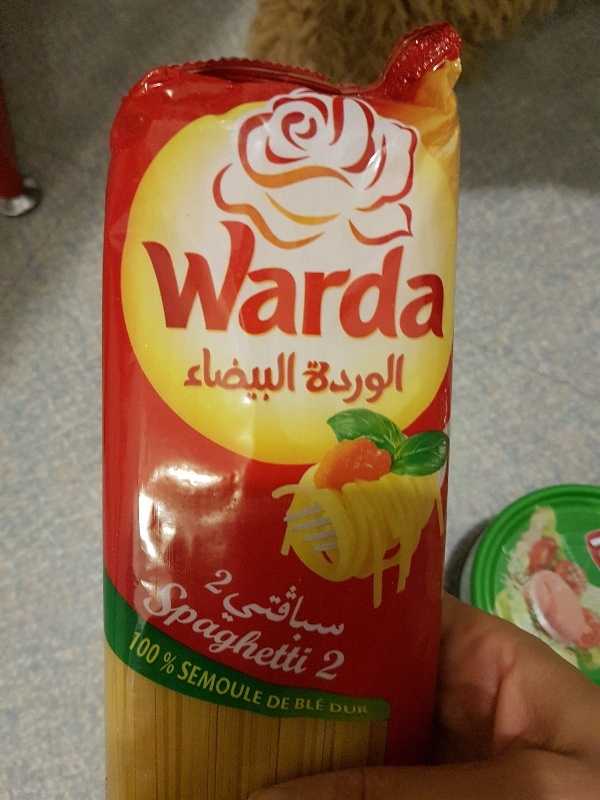text: (145, 207, 160, 345), (161, 207, 176, 345), (177, 207, 192, 345), (193, 207, 208, 345), (209, 207, 224, 345), (225, 207, 240, 345), (241, 207, 256, 345), (257, 207, 272, 345), (273, 207, 288, 345), (289, 207, 304, 345), (305, 207, 320, 345), (321, 207, 336, 345), (337, 207, 352, 345), (353, 207, 368, 345), (369, 207, 384, 345), (385, 207, 400, 345), (401, 207, 416, 345), (417, 207, 432, 345), (433, 207, 447, 345), (161, 569, 176, 689), (177, 569, 192, 689), (193, 569, 208, 689), (209, 569, 224, 689), (225, 569, 240, 689), (241, 569, 256, 689), (257, 569, 272, 689), (273, 569, 288, 689), (289, 569, 304, 689), (131, 207, 144, 345), (305, 569, 318, 689), (150, 569, 160, 689), (337, 578, 353, 652), (241, 578, 256, 652), (257, 578, 272, 652), (273, 578, 288, 652), (289, 578, 304, 652), (305, 578, 320, 652), (321, 578, 336, 652), (228, 578, 240, 652), (193, 347, 208, 405), (209, 347, 224, 405), (225, 347, 240, 405), (241, 347, 256, 405), (257, 347, 272, 405), (273, 347, 288, 405), (305, 351, 320, 406), (321, 351, 336, 406), (337, 351, 352, 406), (353, 351, 368, 406), (369, 351, 384, 406), (385, 351, 400, 406), (193, 659, 208, 709), (209, 659, 224, 709), (225, 659, 240, 709), (241, 659, 256, 709), (182, 347, 192, 405), (145, 630, 160, 666), (225, 564, 241, 597), (289, 347, 298, 405), (209, 564, 224, 597), (183, 659, 192, 709), (161, 648, 176, 678), (401, 351, 409, 406), (257, 659, 265, 709), (337, 649, 348, 683), (353, 701, 369, 718), (328, 649, 336, 683), (337, 701, 352, 718), (273, 694, 288, 711), (137, 630, 144, 666), (305, 696, 320, 712), (301, 351, 304, 406), (161, 630, 165, 666), (297, 696, 304, 712), (330, 701, 336, 718), (205, 564, 208, 597), (321, 696, 325, 712), (177, 648, 179, 678), (269, 694, 272, 711), (289, 694, 292, 711)
